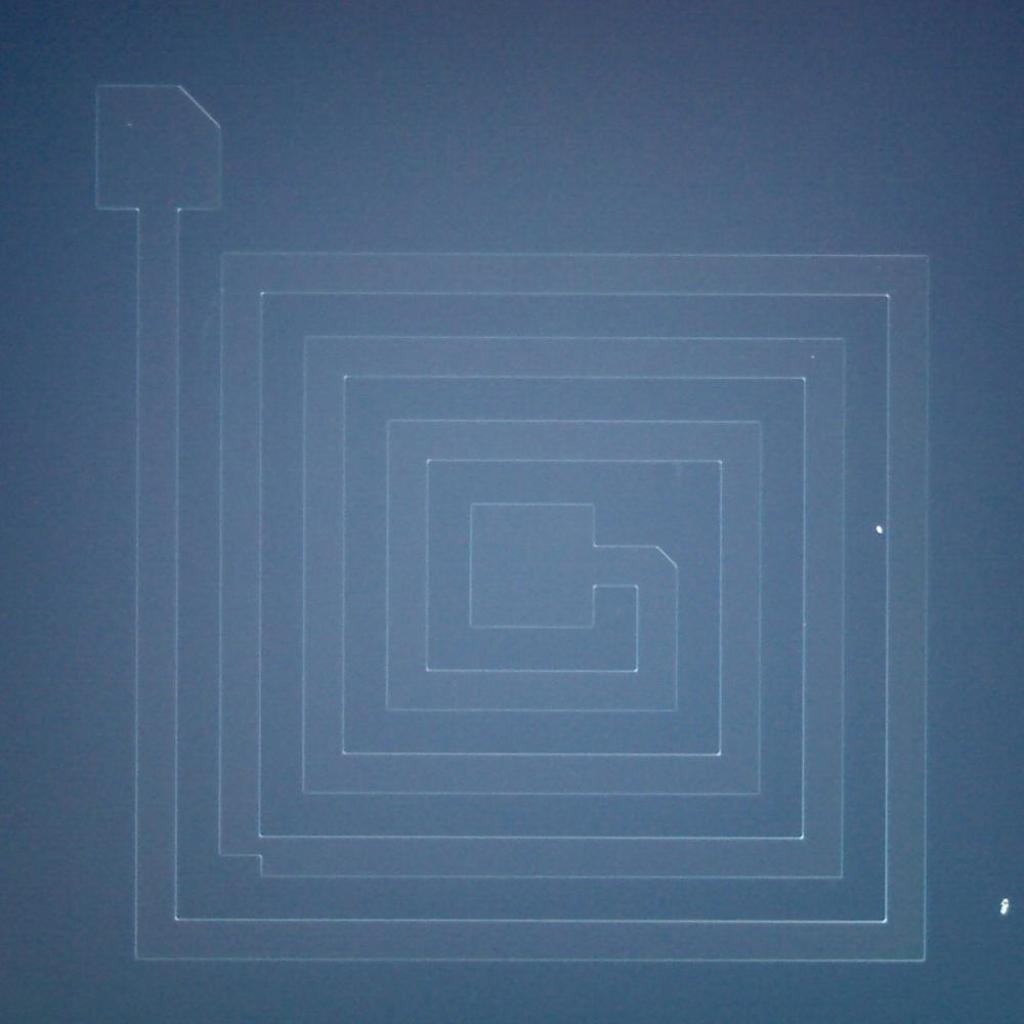dot: (997, 898, 1012, 914), (876, 526, 884, 534), (810, 355, 816, 360), (127, 122, 132, 127)
